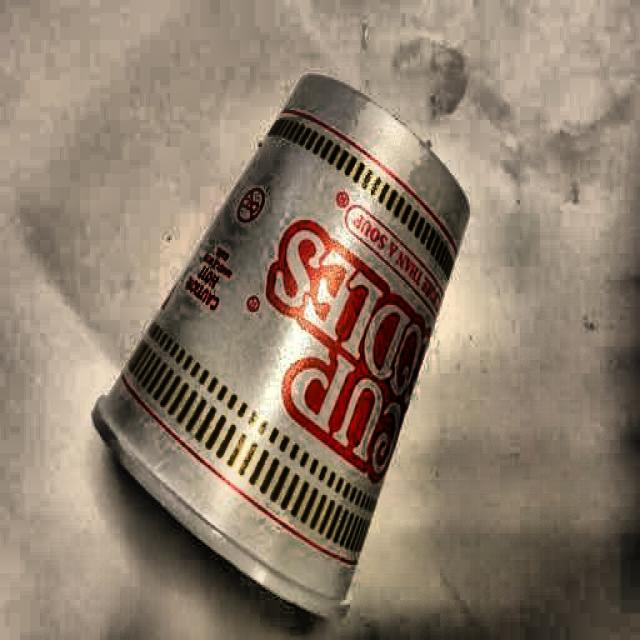trash: (99, 76, 458, 628)
